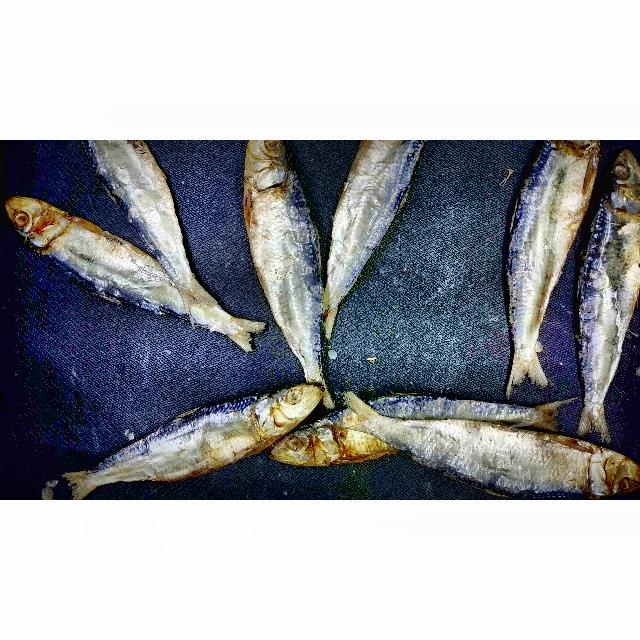Grade_C_Body: (485, 157, 601, 327), (239, 192, 332, 359), (398, 423, 588, 500), (328, 140, 427, 282), (80, 140, 194, 262), (120, 395, 256, 494), (574, 206, 640, 389), (70, 212, 174, 327)
Grade_C_Head: (0, 189, 73, 257), (250, 378, 321, 442), (267, 416, 346, 472), (237, 140, 305, 203), (598, 148, 640, 228), (585, 441, 640, 500)
Grade_C_Tail: (500, 338, 552, 398), (173, 270, 218, 318), (335, 390, 381, 435), (54, 464, 106, 500), (524, 396, 570, 436), (225, 315, 270, 354), (576, 395, 611, 442)
